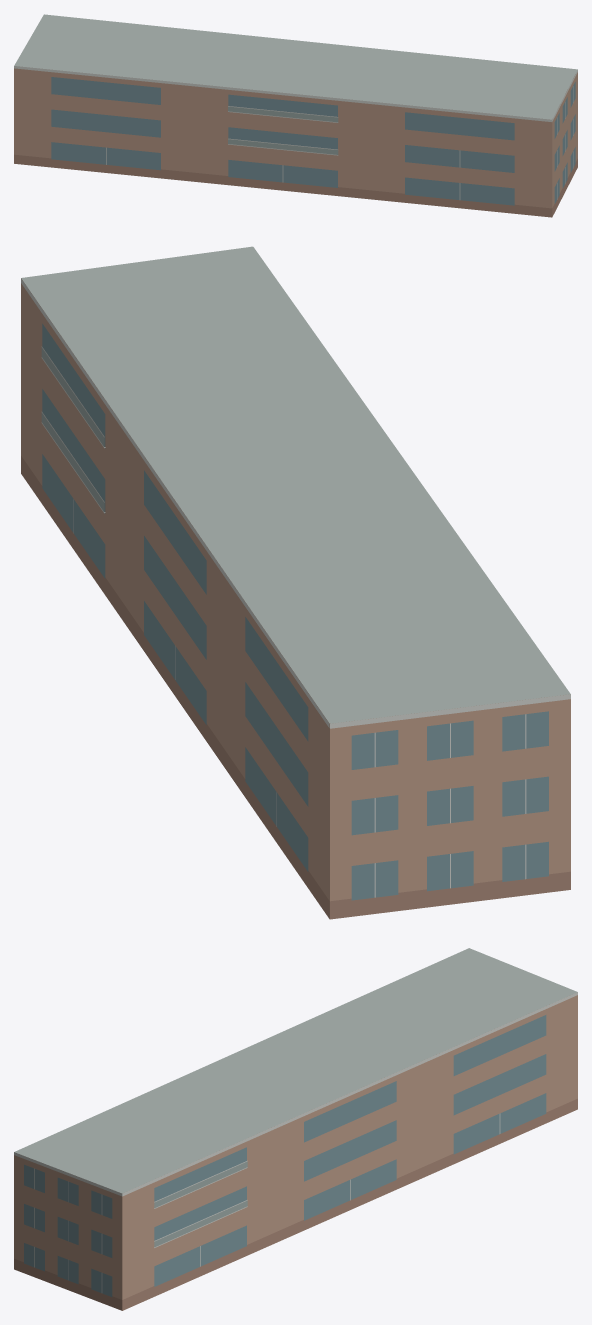
The model's file is survey-upis-32881495.glb.
3 views of the same model, one above another, from view 1: azimuth 30°, elevation 25°; view 2: azimuth 150°, elevation 25°; view 3: azimuth 270°, elevation 25° (orthographic). The views are drawn at different scales.
Visible parts, largest first — view 1: survey-upis-32881495.tmp; view 2: survey-upis-32881495.tmp; view 3: survey-upis-32881495.tmp.
Part boxes in pixels (x1,y1,x2,y2): survey-upis-32881495.tmp: (14,14,577,217); survey-upis-32881495.tmp: (21,246,570,919); survey-upis-32881495.tmp: (14,948,577,1310).
Bounding box in the file's own units: 43.08 × 9.6 × 41.81.
